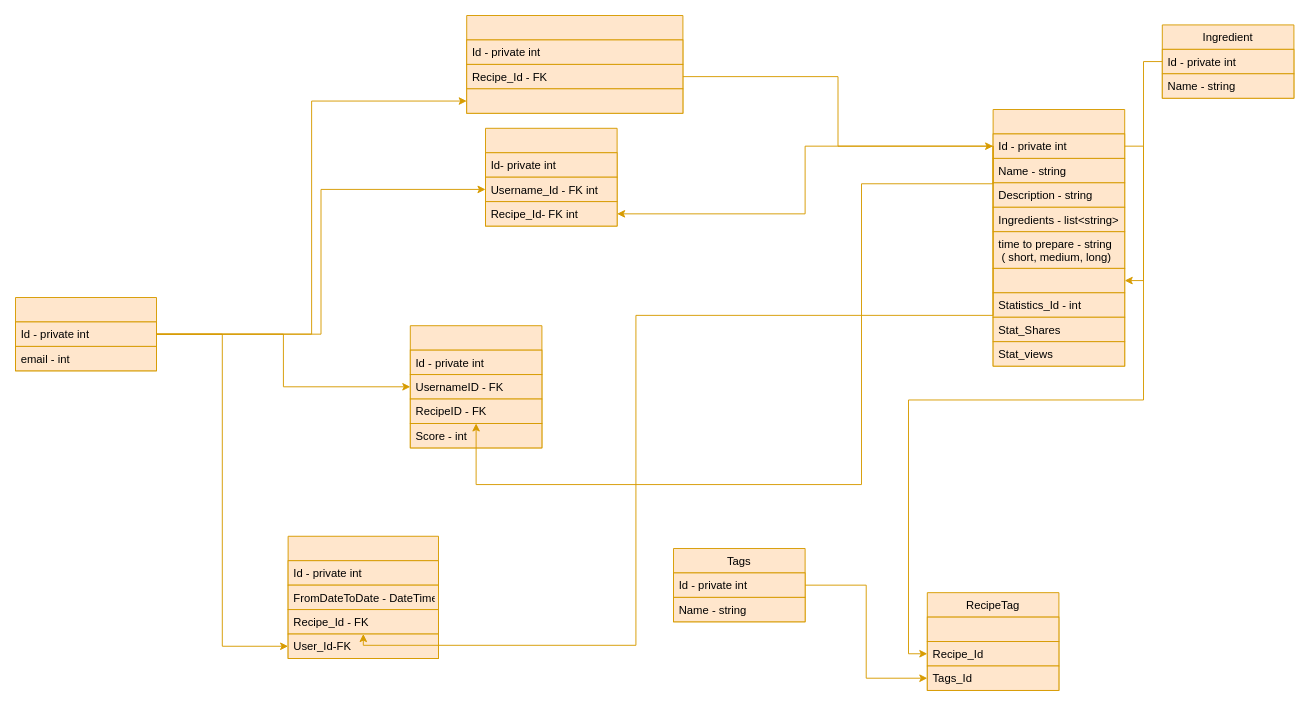
The diagram is 1309 pixels wide and 706 high, and some of its shapes have lost their labels. Here are the shapes that lost their labels. From the top down, the box of each, then its label:
(466, 15, 683, 113): Shopping list
(466, 88, 683, 113): User_Id - FK
(485, 127, 617, 226): Favourite
(992, 109, 1125, 366): Recipe
(992, 267, 1125, 293): IngredientId- private int
(15, 297, 157, 371): User
(409, 325, 542, 448): Rating
(287, 535, 439, 658): plan of meals
(926, 616, 1059, 642): RecipeTag_Id
